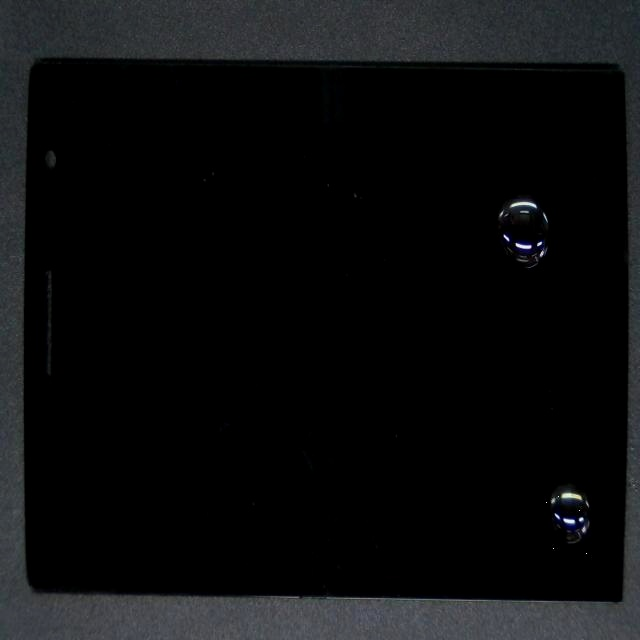oil: (260, 219, 640, 640), (277, 105, 640, 305)
